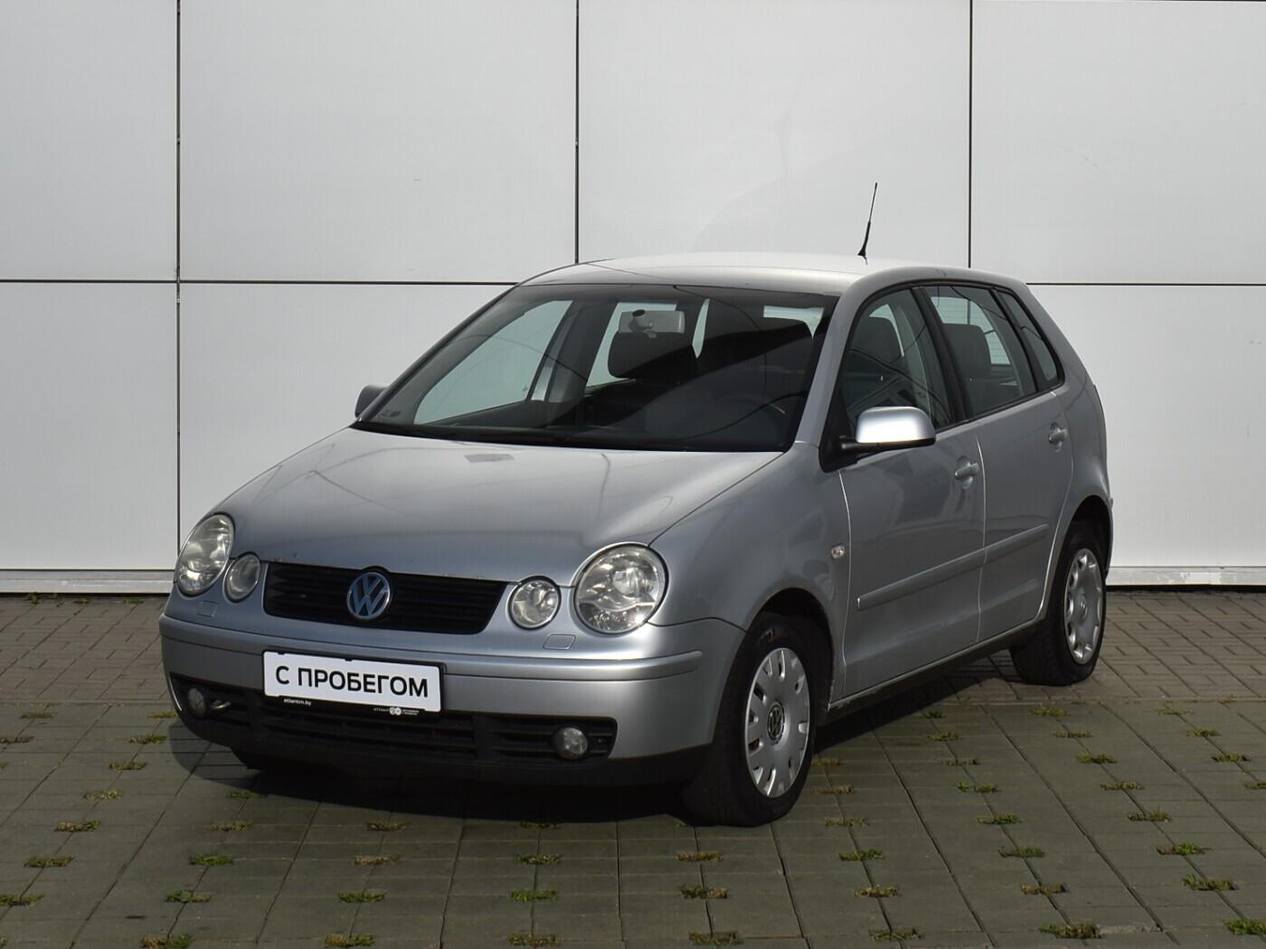Polo_2001-2005: (157, 246, 1112, 841)
